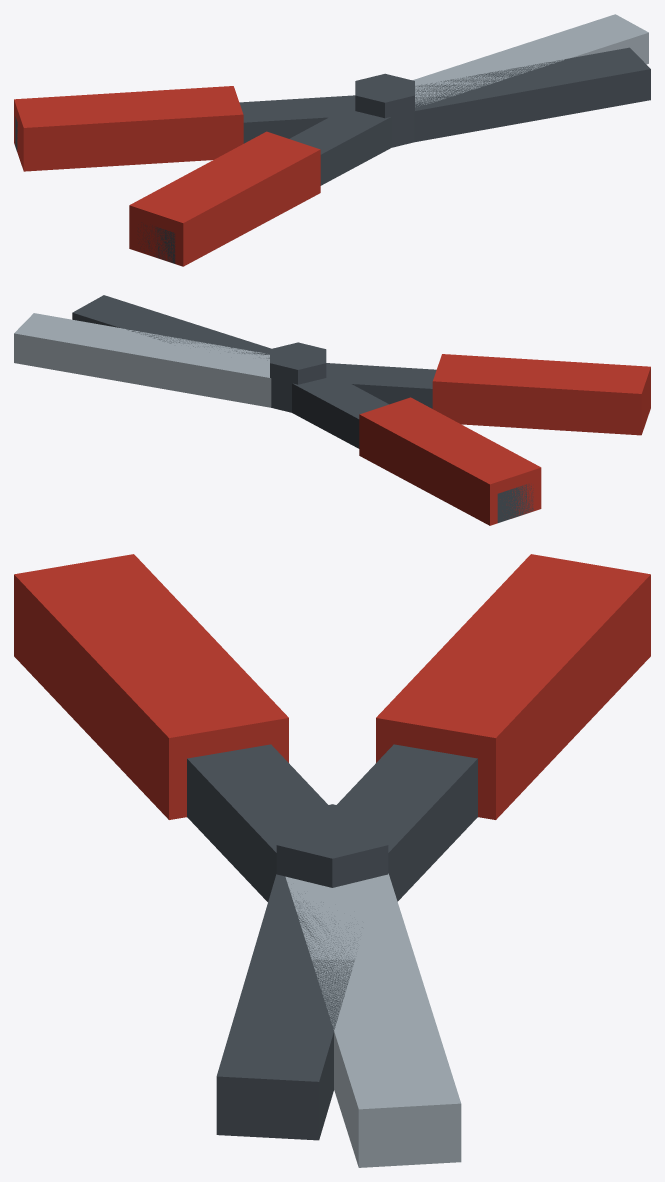
File: GT_PruningShears_01.glb
3 views of the same model, one above another, from view 1: azimuth 30°, elevation 25°; view 2: azimuth 150°, elevation 25°; view 3: azimuth 270°, elevation 25° (orthographic). The views are drawn at different scales.
Visible parts, largest first — view 1: GT_PruningShears_01; view 2: GT_PruningShears_01; view 3: GT_PruningShears_01.
Part boxes in pixels (box(x1,y1,x2,y2)): GT_PruningShears_01: box(14, 14, 650, 266); GT_PruningShears_01: box(14, 295, 650, 525); GT_PruningShears_01: box(14, 554, 650, 1167).
Size of the model in its own units: 0.1948 by 0.015 by 0.0986.
1 material, 1 textured.
